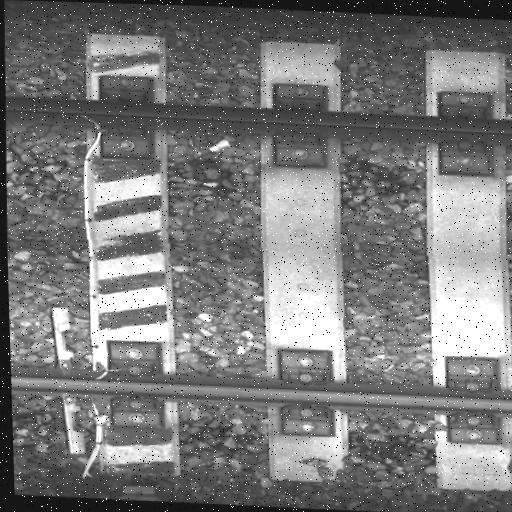sleeper: (258, 40, 353, 484), (83, 32, 178, 475), (426, 48, 512, 491)
